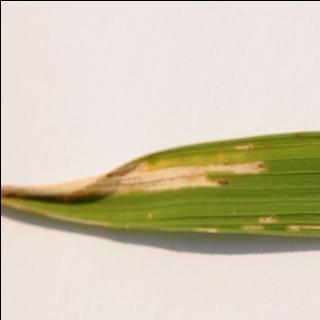Hawar-Daun: (0, 131, 269, 195), (181, 207, 320, 240), (145, 206, 155, 222)
